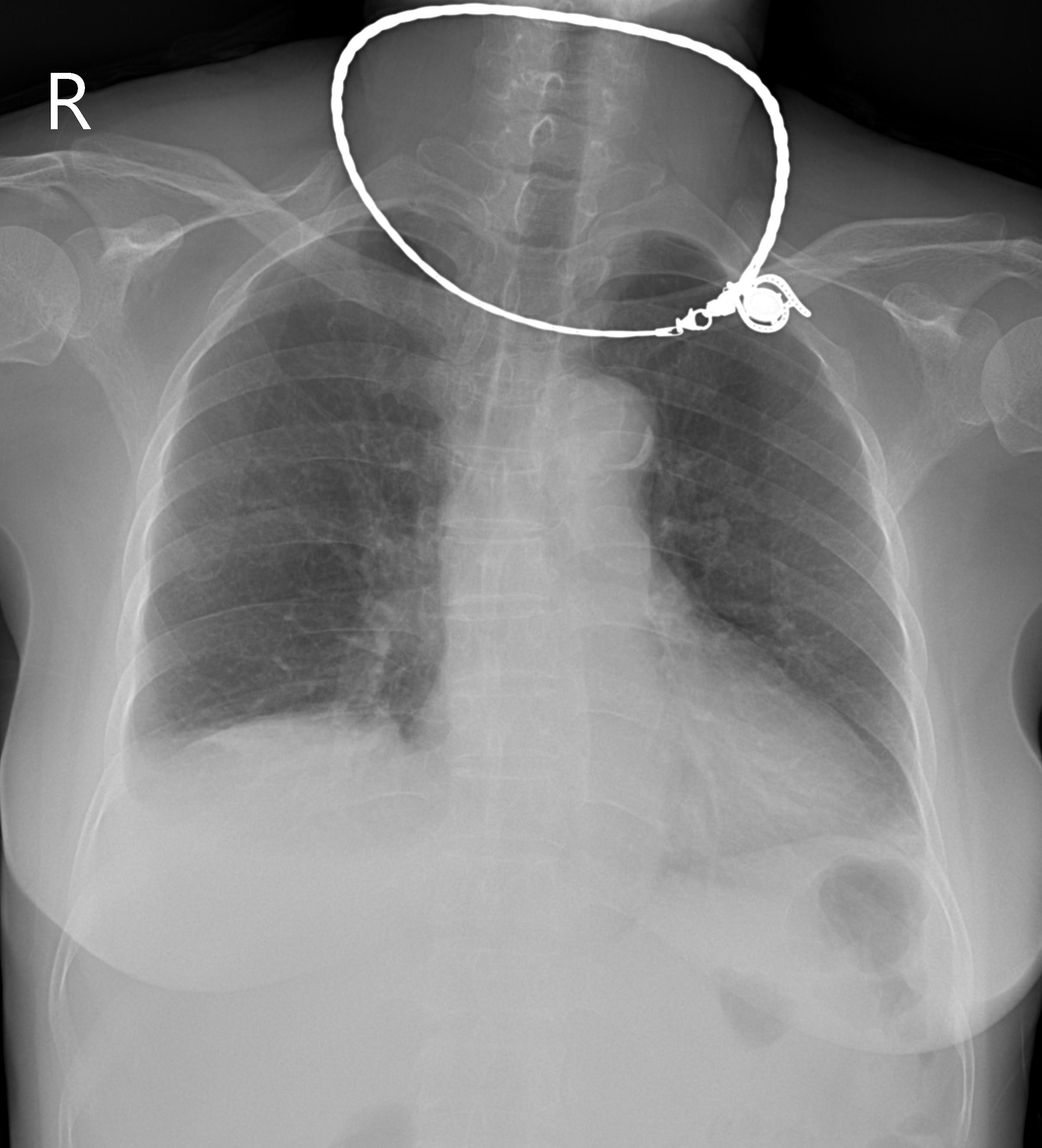Aortic enlargement: (535, 371, 660, 501)
Cardiomegaly: (406, 683, 919, 872)
Pleural thickening: (100, 754, 187, 847), (606, 228, 717, 258)
